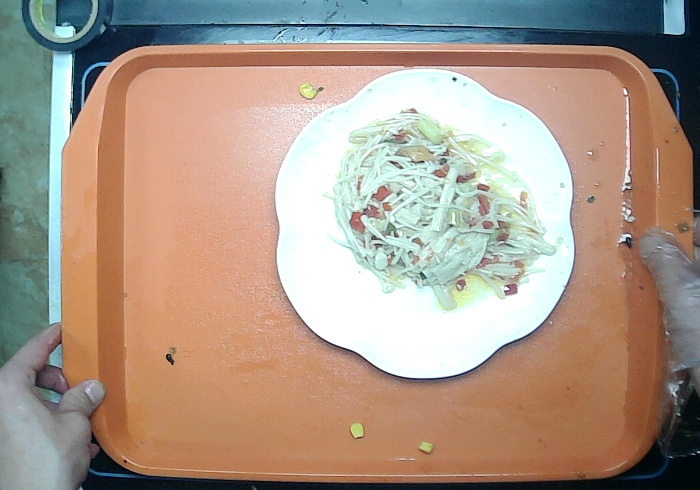HZYJPL-Bai_Se_Hua_Duo_Wan: (250, 62, 582, 393)
